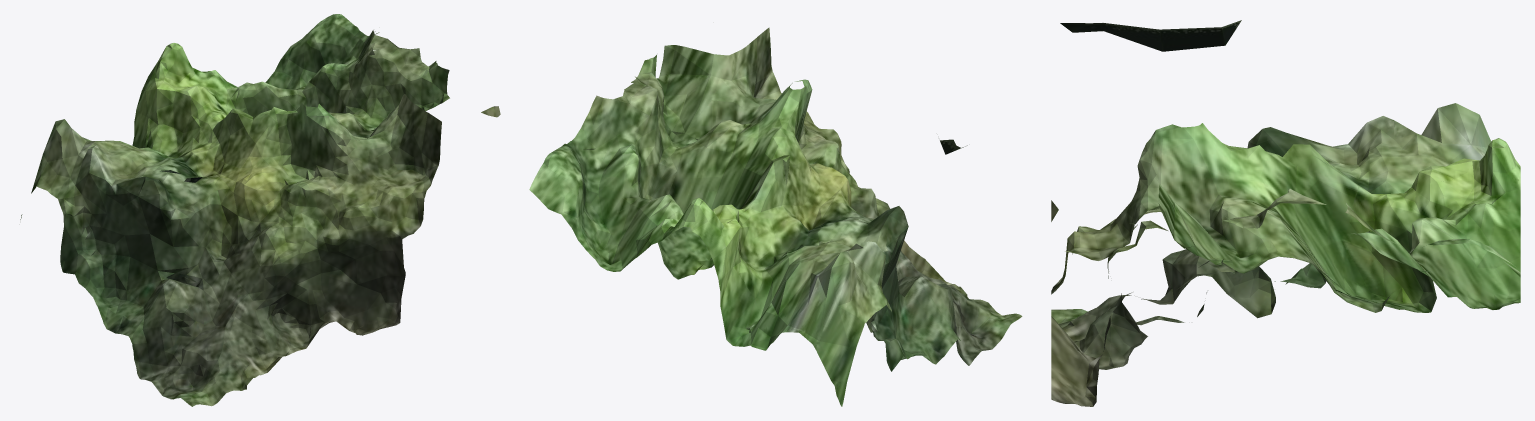
The picture shows the model from 3 angles, left to right: view 1: azimuth 30°, elevation 25°; view 2: azimuth 150°, elevation 25°; view 3: azimuth 270°, elevation 25°; orthographic projection. The views are drawn at different scales.
Size of the model in its own units: 5.9 by 4.3 by 5.9.
Materials: 4 (4 with a texture image).
